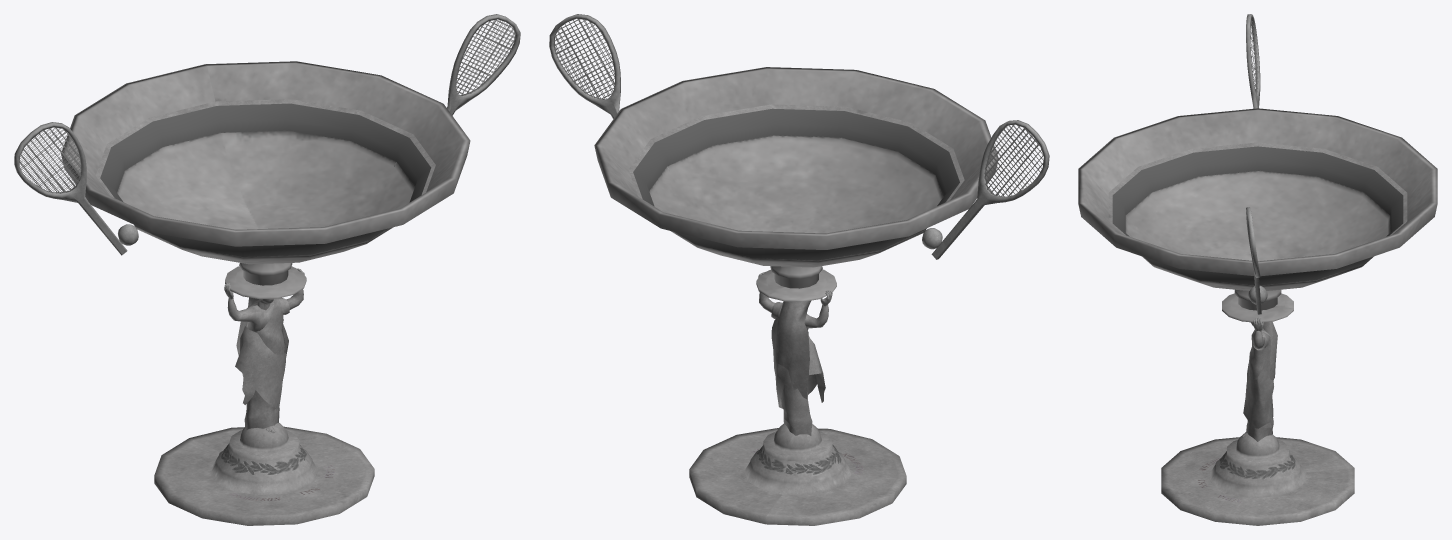
The model's file is Silver trophy.fbx.
3 views of the same model, side by side, from view 1: azimuth 30°, elevation 25°; view 2: azimuth 150°, elevation 25°; view 3: azimuth 270°, elevation 25° (orthographic). The views are drawn at different scales.
Visible parts, largest first — view 1: polySurface2, pCylinder1, pasted__pPipe1 (×2), pasted__pPlane2 (×2), pPlane2, pasted__pPlane3 (×2), polySurface1, Props_designer_Shyamdev_3D_Polygon80, Props_designer_Shyamdev_3D_Polygon77; view 2: polySurface2, pCylinder1, pasted__pPipe1 (×2), pasted__pPlane3 (×2), pSphere3, pasted__pPlane2 (×2), polySurface1, Props_designer_Shyamdev_3D_Polygon80, pPlane2; view 3: polySurface2, pCylinder1, polySurface1, pasted__pPipe1 (×2), pPlane2, Props_designer_Shyamdev_3D_Polygon80, pSphere3.
Part boxes in pixels (x1,y1,x2,y2): polySurface2: [61, 61, 470, 299]; pCylinder1: [154, 422, 374, 525]; pasted__pPipe1 (×2): [14, 14, 520, 255]; pasted__pPlane2 (×2): [19, 19, 515, 193]; pPlane2: [235, 324, 288, 408]; pasted__pPlane3 (×2): [19, 20, 514, 192]; polySurface1: [95, 99, 435, 197]; Props_designer_Shyamdev_3D_Polygon80: [244, 297, 289, 430]; Props_designer_Shyamdev_3D_Polygon77: [227, 298, 274, 331]; polySurface2: [594, 67, 998, 301]; pCylinder1: [689, 423, 906, 525]; pasted__pPipe1 (×2): [549, 14, 1049, 259]; pasted__pPlane3 (×2): [553, 19, 1043, 197]; pSphere3: [775, 300, 810, 399]; pasted__pPlane2 (×2): [553, 19, 1042, 196]; polySurface1: [628, 104, 964, 201]; Props_designer_Shyamdev_3D_Polygon80: [771, 302, 812, 435]; pPlane2: [771, 317, 825, 408]; polySurface2: [1078, 108, 1437, 322]; pCylinder1: [1161, 432, 1354, 525]; polySurface1: [1108, 142, 1407, 235]; pasted__pPipe1 (×2): [1246, 14, 1261, 314]; pPlane2: [1243, 337, 1273, 428]; Props_designer_Shyamdev_3D_Polygon80: [1246, 330, 1273, 441]; pSphere3: [1263, 321, 1277, 380].
Bounding box in the file's own units: 35.13 × 27.53 × 24.15.
Materials: 3 (3 with a texture image).
